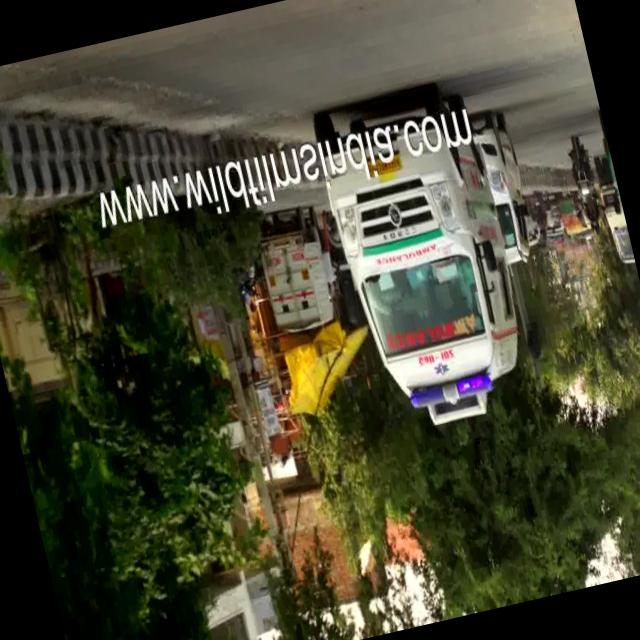ambulance: (306, 78, 540, 444)
